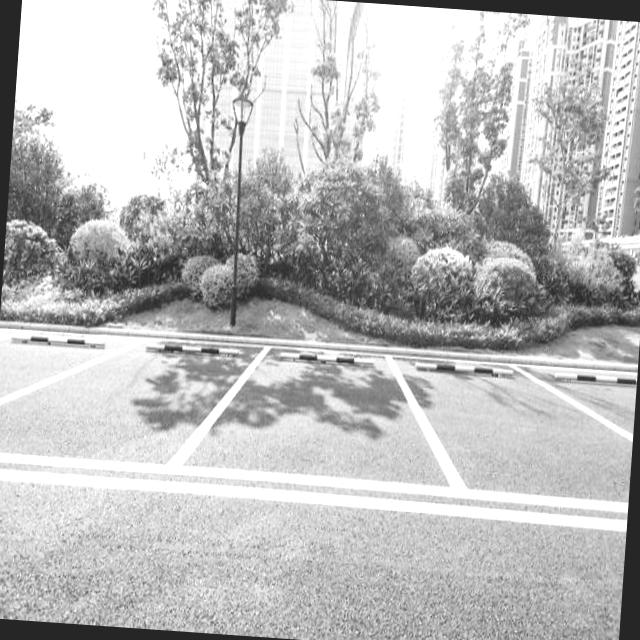free: (160, 341, 470, 498), (389, 355, 633, 514), (0, 339, 271, 475)
